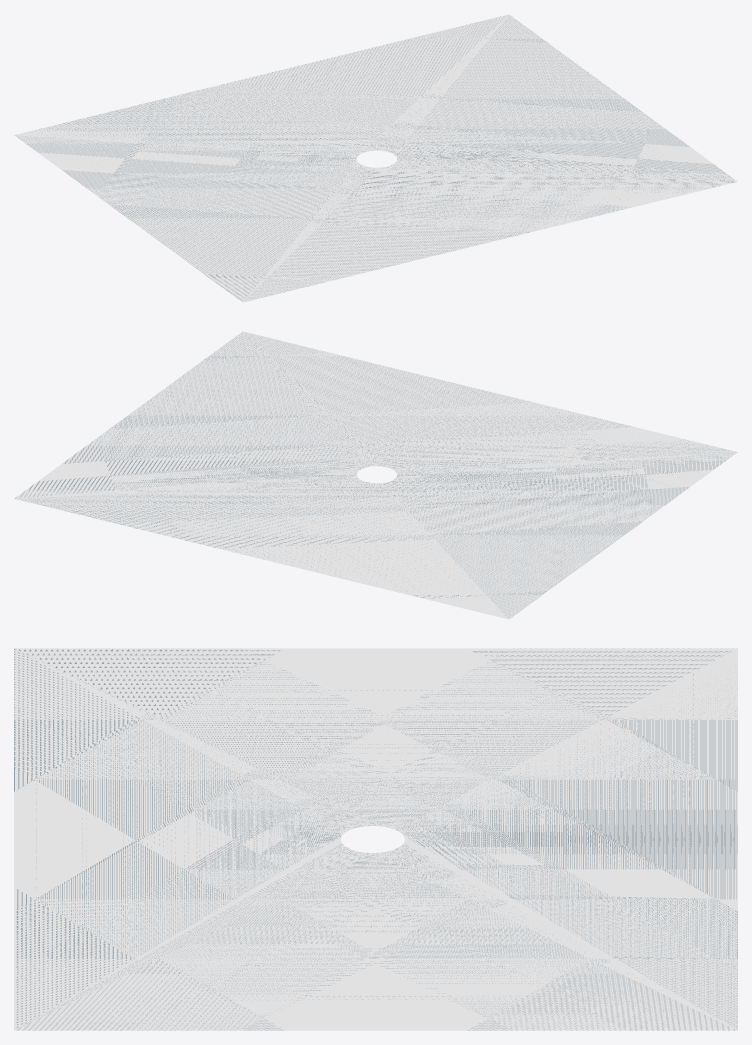
3 views of the same model, one above another, from view 1: azimuth 30°, elevation 25°; view 2: azimuth 150°, elevation 25°; view 3: azimuth 270°, elevation 25° (orthographic). The views are drawn at different scales.
Parts seen in each view (by area): view 1: Model; view 2: Model; view 3: Model.
Part boxes in pixels (x1=…): Model: x1=14, y1=14, x2=737, y2=302; Model: x1=14, y1=331, x2=737, y2=619; Model: x1=14, y1=648, x2=737, y2=1030.
Size of the model in its own units: 30 by 0 by 24.
